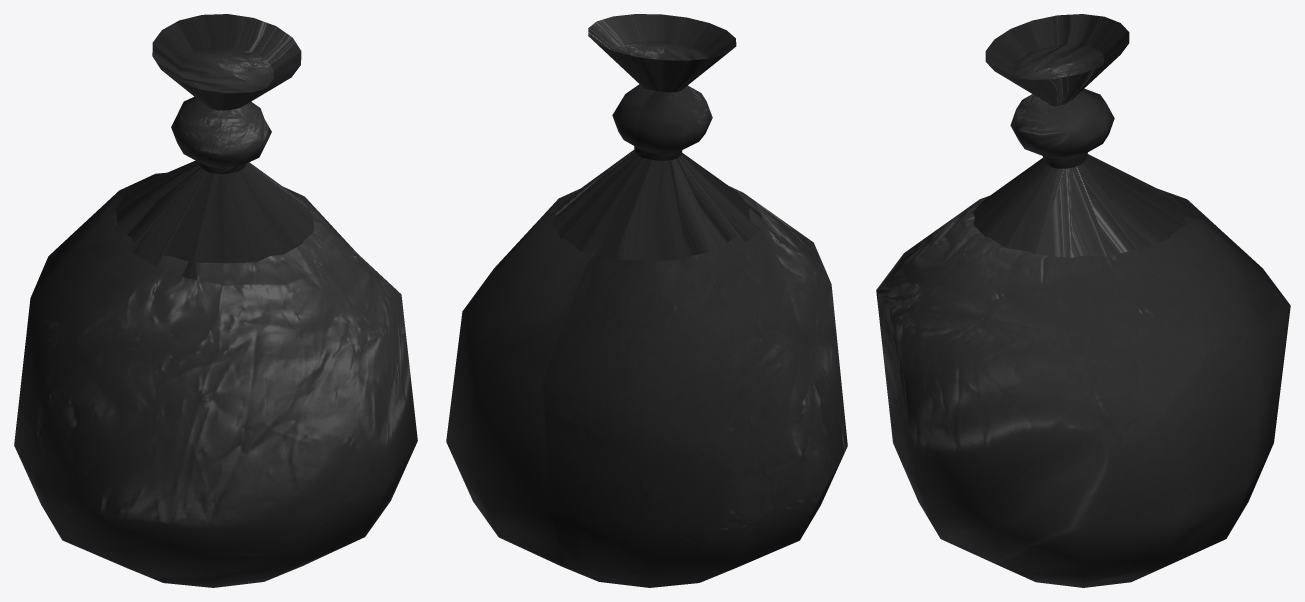
File: sacounity.FBX
3 views of the same model, side by side, from view 1: azimuth 30°, elevation 25°; view 2: azimuth 150°, elevation 25°; view 3: azimuth 270°, elevation 25° (orthographic).
Parts seen in each view (by area): view 1: Sphere001; view 2: Sphere001; view 3: Sphere001.
Part boxes in pixels (bbox=[...]): Sphere001: bbox=[14, 14, 417, 587]; Sphere001: bbox=[446, 14, 847, 587]; Sphere001: bbox=[876, 14, 1290, 587].
Bounding box in the file's own units: 34.5 × 49.09 × 35.32.
1 material, 1 textured.
